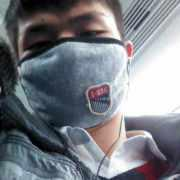OK: (18, 11, 126, 126)
